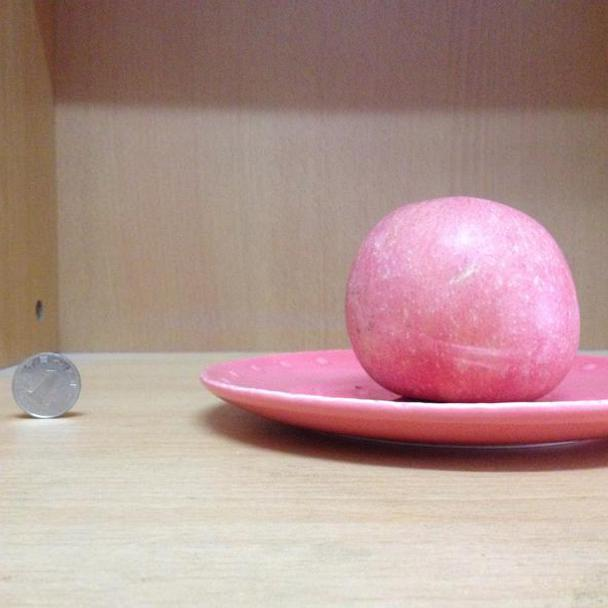apple: (344, 194, 581, 399)
